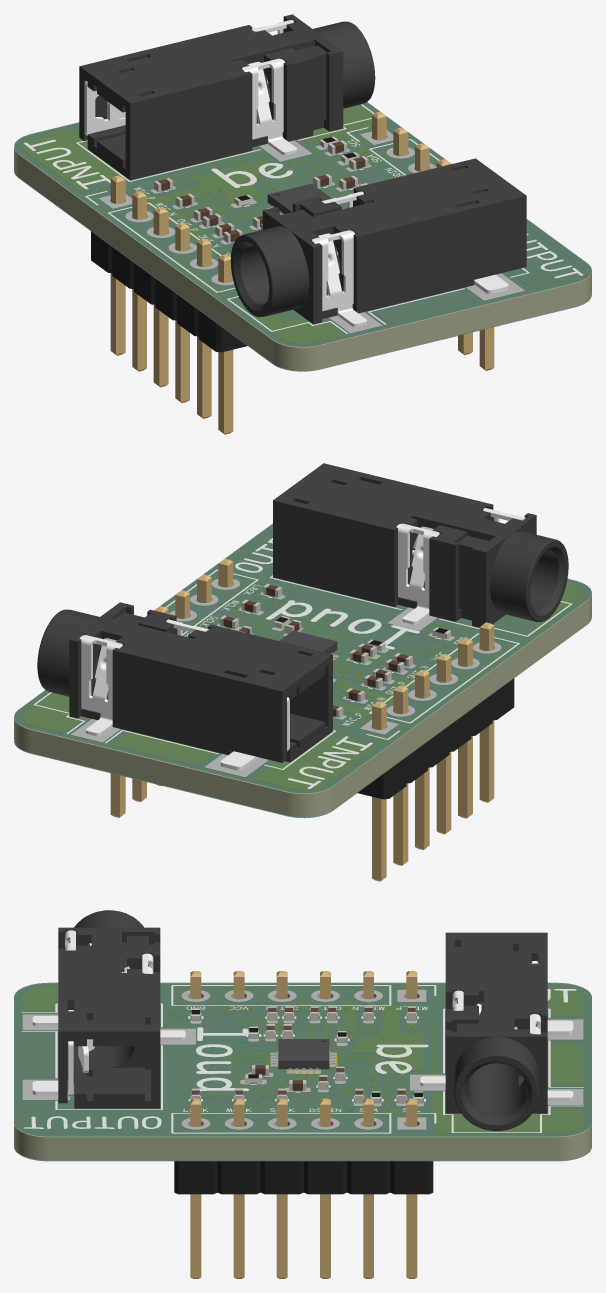
The model's file is pcb.glb.
3 renders of one model, top to bottom at view 1: azimuth 30°, elevation 25°; view 2: azimuth 150°, elevation 25°; view 3: azimuth 270°, elevation 25°, orthographic.
Parts seen in each view (by area): view 1: =>[0:1:1:371], =>[0:1:1:373], =>[0:1:1:48] (×2), =>[0:1:1:7] (×2), =>[0:1:1:57], =>[0:1:1:53], =>[0:1:1:366], =>[0:1:1:18] (×2), =>[0:1:1:369], =>[0:1:1:367], =>[0:1:1:50], =>[0:1:1:54] (+13 smaller); view 2: =>[0:1:1:371], =>[0:1:1:373], =>[0:1:1:48] (×2), =>[0:1:1:7] (×2), =>[0:1:1:57], =>[0:1:1:53], =>[0:1:1:366], =>[0:1:1:369], =>[0:1:1:18] (×2), =>[0:1:1:367], =>[0:1:1:50], =>[0:1:1:54] (+13 smaller); view 3: =>[0:1:1:371], =>[0:1:1:373], =>[0:1:1:7] (×2), =>[0:1:1:48] (×2), =>[0:1:1:366], =>[0:1:1:367], =>[0:1:1:369], =>[0:1:1:54], =>[0:1:1:14], =>[0:1:1:18] (×2), =>[0:1:1:90], =>0:1:1:362 (+5 smaller).
Boxes of the visible parts, left/top/right/bottom form: =>[0:1:1:371]: left=14, top=102, right=591, bottom=346; =>[0:1:1:373]: left=14, top=103, right=591, bottom=370; =>[0:1:1:48] (×2): left=80, top=14, right=525, bottom=247; =>[0:1:1:7] (×2): left=91, top=111, right=494, bottom=434; =>[0:1:1:57]: left=356, top=195, right=526, bottom=313; =>[0:1:1:53]: left=130, top=74, right=252, bottom=180; =>[0:1:1:366]: left=23, top=105, right=393, bottom=343; =>[0:1:1:18] (×2): left=233, top=21, right=374, bottom=291; =>[0:1:1:369]: left=23, top=104, right=582, bottom=333; =>[0:1:1:367]: left=98, top=130, right=524, bottom=333; =>[0:1:1:50]: left=287, top=59, right=313, bottom=141; =>[0:1:1:54]: left=79, top=66, right=130, bottom=179; =>[0:1:1:371]: left=14, top=523, right=591, bottom=793; =>[0:1:1:373]: left=14, top=525, right=591, bottom=817; =>[0:1:1:48] (×2): left=69, top=463, right=536, bottom=691; =>[0:1:1:7] (×2): left=110, top=558, right=514, bottom=881; =>[0:1:1:57]: left=112, top=650, right=282, bottom=762; =>[0:1:1:53]: left=273, top=500, right=394, bottom=606; =>[0:1:1:366]: left=23, top=583, right=582, bottom=789; =>[0:1:1:369]: left=33, top=538, right=572, bottom=788; =>[0:1:1:18] (×2): left=38, top=531, right=565, bottom=673; =>[0:1:1:367]: left=71, top=579, right=501, bottom=777; =>[0:1:1:50]: left=429, top=538, right=455, bottom=621; =>[0:1:1:54]: left=282, top=654, right=332, bottom=762; =>[0:1:1:371]: left=14, top=982, right=591, bottom=1136; =>[0:1:1:373]: left=14, top=984, right=591, bottom=1160; =>[0:1:1:7] (×2): left=174, top=971, right=433, bottom=1278; =>[0:1:1:48] (×2): left=58, top=927, right=547, bottom=1036; =>[0:1:1:366]: left=23, top=987, right=582, bottom=1132; =>[0:1:1:367]: left=22, top=990, right=583, bottom=1129; =>[0:1:1:369]: left=21, top=985, right=584, bottom=1133; =>[0:1:1:54]: left=58, top=1031, right=160, bottom=1108; =>[0:1:1:14]: left=466, top=1063, right=527, bottom=1118; =>[0:1:1:18] (×2): left=74, top=910, right=539, bottom=1090; =>[0:1:1:90]: left=74, top=1046, right=144, bottom=1093; =>0:1:1:362: left=278, top=1039, right=329, bottom=1069.
Bounding box in the file's own units: 0.0214 × 0.015 × 0.034.
